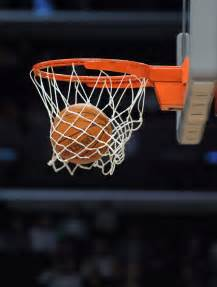basketball: (48, 103, 114, 167)
